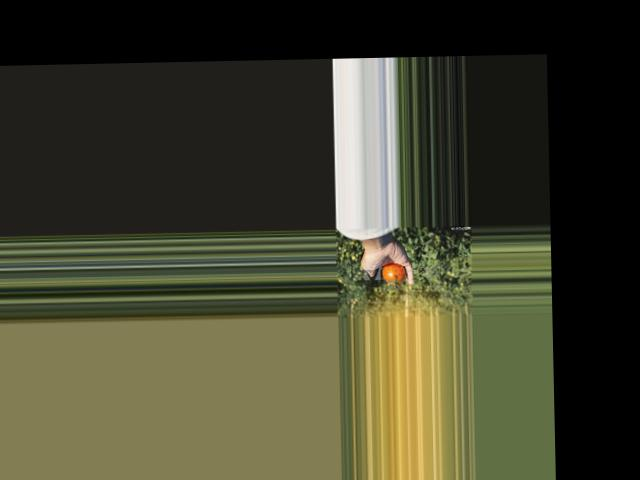tomato: (383, 263, 406, 284)
